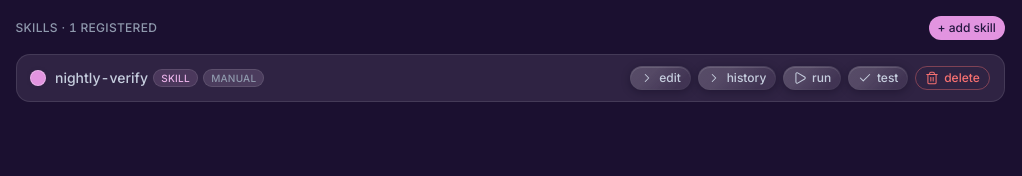
Test: AutomationsTab — F-051 empty run history › shows "No runs yet." when the expanded history has zero runs
Click the button with test id "skill-history-toggle": (737, 78) top-left (698, 66), bottom-right (776, 90)
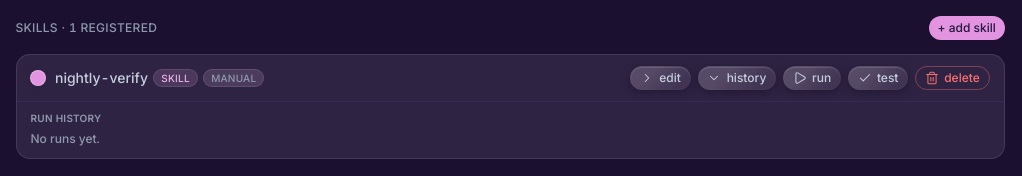
Now the element with test id "skill-run-history" shows "No runs yet.", box top-left (30, 131), bottom-right (100, 146)
